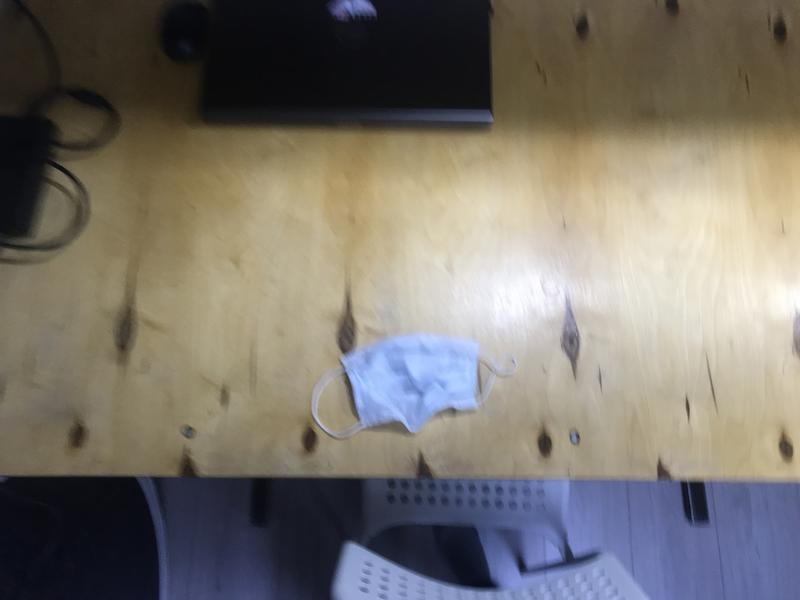medical_mask: (311, 334, 518, 439)
